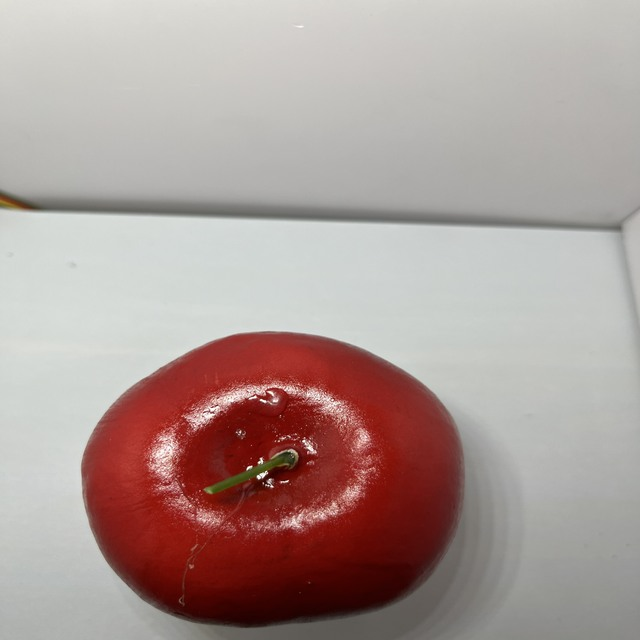Tao: (73, 323, 468, 630)
